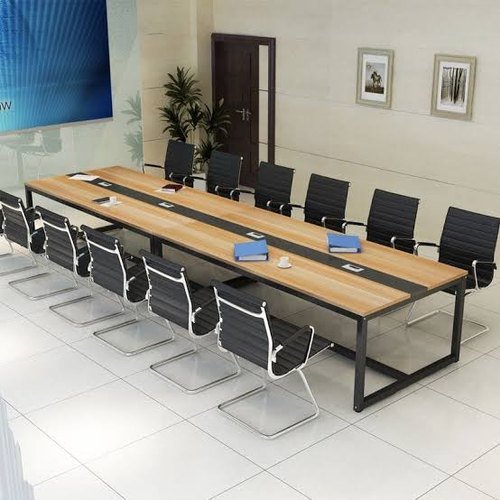conference_table: (24, 166, 467, 412)
